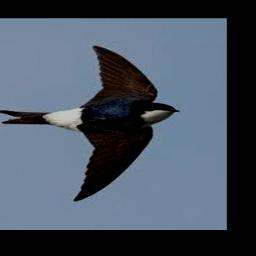Swallow: (0, 45, 181, 200)
